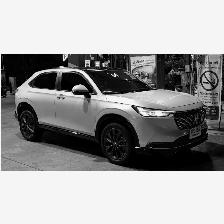NON-EV: (16, 65, 209, 165)
